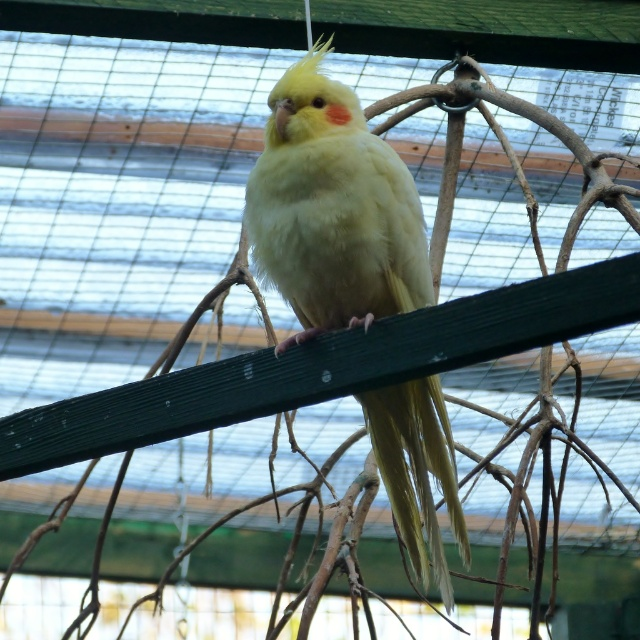Parrot: (241, 30, 476, 608)
